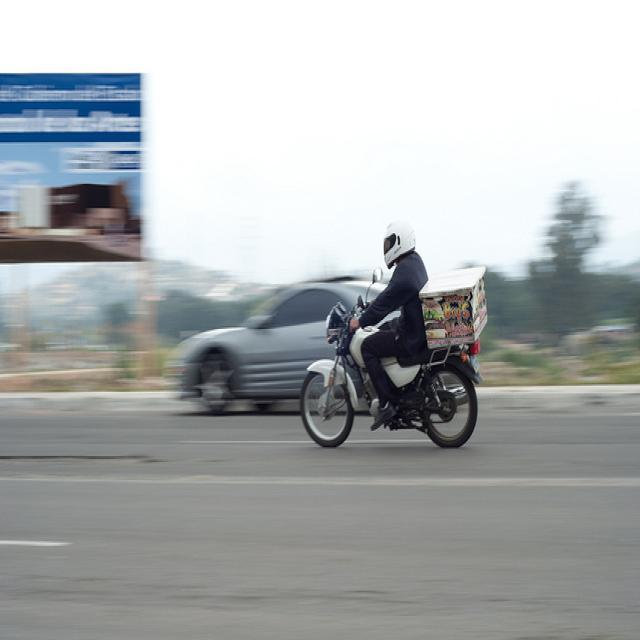motor: (294, 265, 491, 446)
